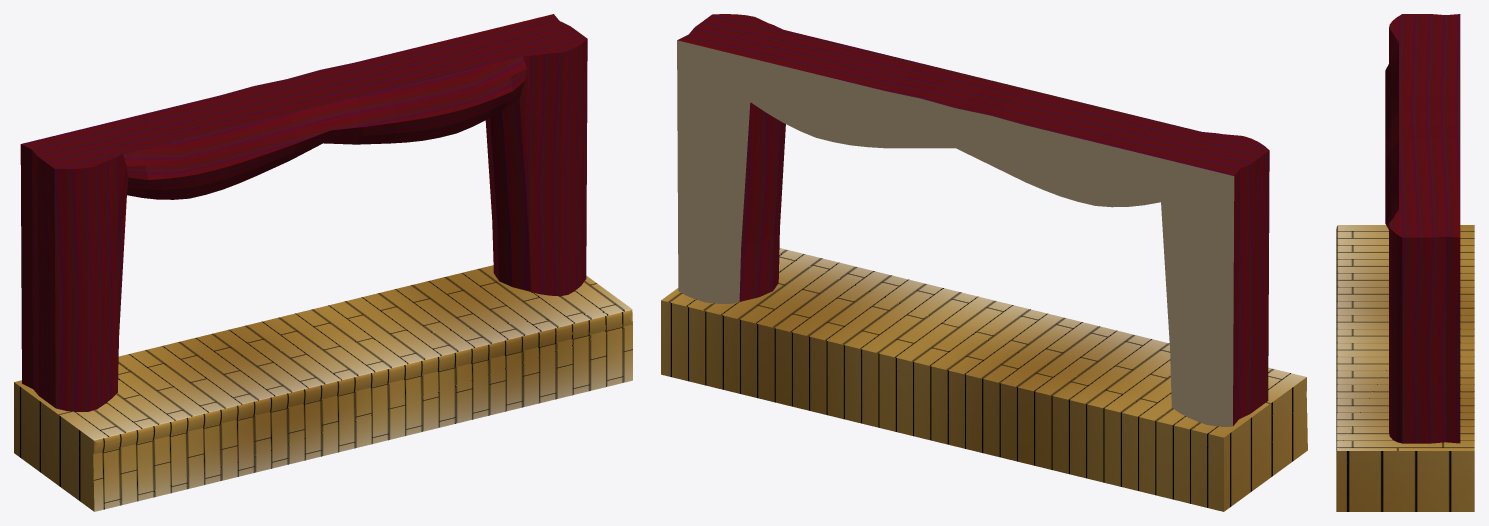
Rendered from stage.fbx.
3 views of the same model, side by side, from view 1: azimuth 30°, elevation 25°; view 2: azimuth 150°, elevation 25°; view 3: azimuth 270°, elevation 25° (orthographic). The views are drawn at different scales.
Parts seen in each view (by area): view 1: Cube.001, Cube; view 2: Cube.001, Cube; view 3: Cube.001, Cube.
Part boxes in pixels (x1,y1,x2,y2): Cube.001: [20, 14, 587, 411]; Cube: [14, 265, 632, 511]; Cube.001: [677, 14, 1269, 426]; Cube: [661, 248, 1307, 511]; Cube.001: [1385, 14, 1460, 443]; Cube: [1336, 225, 1474, 511].
Size of the model in its own units: 687 by 385 by 177.
Materials: 1 (1 with a texture image).
